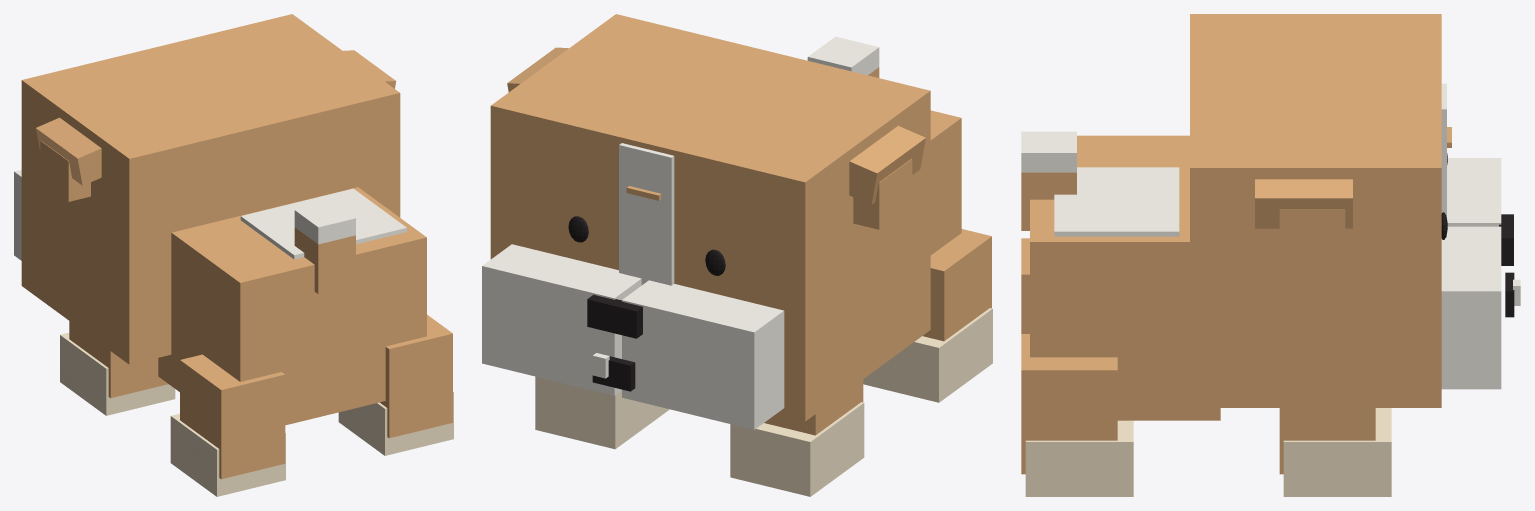
File: Bulldog_Block.obj
The picture shows the model from 3 angles, left to right: view 1: azimuth 30°, elevation 25°; view 2: azimuth 150°, elevation 25°; view 3: azimuth 270°, elevation 25°; orthographic projection. The views are drawn at different scales.
Visible parts, largest first — view 1: BigHead, ShortTorso, LegBL_Leg, LegBR_Leg, BackWhitePatch, LegBL_Paw, LegFL_Paw, LegBR_Paw, TailRoot, LegFL_Leg, FoldEarL, TailWhiteTip (+2 smaller); view 2: BigHead, PuffedCheekL, PuffedCheekR, LegFL_Paw, FaceBlaze, LegBL_Paw, LegFR_Paw, LegBL_Leg, ShortTorso, FoldEarL, FoldEarTipL, SquareNose (+4 smaller); view 3: BigHead, ShortTorso, PuffedCheekR, LegBR_Leg, BackWhitePatch, LegFR_Paw, LegBR_Paw, PuffedCheekL, FoldEarR, LegFR_Leg, FoldEarTipR, TailWhiteTip (+4 smaller).
Part boxes in pixels (x1=…): BigHead: x1=21, y1=14, x2=400, y2=364; ShortTorso: x1=158, y1=187, x2=426, y2=425; LegBL_Leg: x1=180, y1=354, x2=285, y2=479; LegBR_Leg: x1=380, y1=314, x2=452, y2=438; BackWhitePatch: x1=240, y1=188, x2=406, y2=259; LegBL_Paw: x1=170, y1=413, x2=285, y2=496; LegFL_Paw: x1=60, y1=332, x2=175, y2=415; LegBR_Paw: x1=338, y1=391, x2=453, y2=455; TailRoot: x1=294, y1=227, x2=355, y2=294; LegFL_Leg: x1=69, y1=321, x2=168, y2=398; FoldEarL: x1=36, y1=117, x2=101, y2=185; TailWhiteTip: x1=294, y1=201, x2=355, y2=244; BigHead: x1=490, y1=14, x2=930, y2=421; PuffedCheekL: x1=622, y1=280, x2=784, y2=429; PuffedCheekR: x1=482, y1=244, x2=641, y2=395; LegFL_Paw: x1=730, y1=402, x2=864, y2=496; FaceBlaze: x1=619, y1=143, x2=674, y2=285; LegBL_Paw: x1=863, y1=308, x2=992, y2=402; LegFR_Paw: x1=535, y1=376, x2=669, y2=449; LegBL_Leg: x1=923, y1=229, x2=991, y2=341; ShortTorso: x1=930, y1=110, x2=961, y2=255; FoldEarL: x1=849, y1=126, x2=925, y2=204; FoldEarTipL: x1=853, y1=158, x2=912, y2=229; SquareNose: x1=587, y1=294, x2=642, y2=338; BigHead: x1=1190, y1=14, x2=1441, y2=407; ShortTorso: x1=1030, y1=135, x2=1220, y2=420; PuffedCheekR: x1=1441, y1=226, x2=1501, y2=389; LegBR_Leg: x1=1021, y1=334, x2=1117, y2=474; BackWhitePatch: x1=1054, y1=167, x2=1179, y2=236; LegFR_Paw: x1=1283, y1=408, x2=1391, y2=496; LegBR_Paw: x1=1025, y1=420, x2=1133, y2=496; PuffedCheekL: x1=1447, y1=158, x2=1501, y2=226; FoldEarR: x1=1255, y1=179, x2=1352, y2=228; LegFR_Leg: x1=1279, y1=408, x2=1375, y2=474; FoldEarTipR: x1=1279, y1=209, x2=1345, y2=257; TailWhiteTip: x1=1021, y1=131, x2=1076, y2=172.
Bounding box in the file's own units: 2.54 × 2.21 × 2.96.
